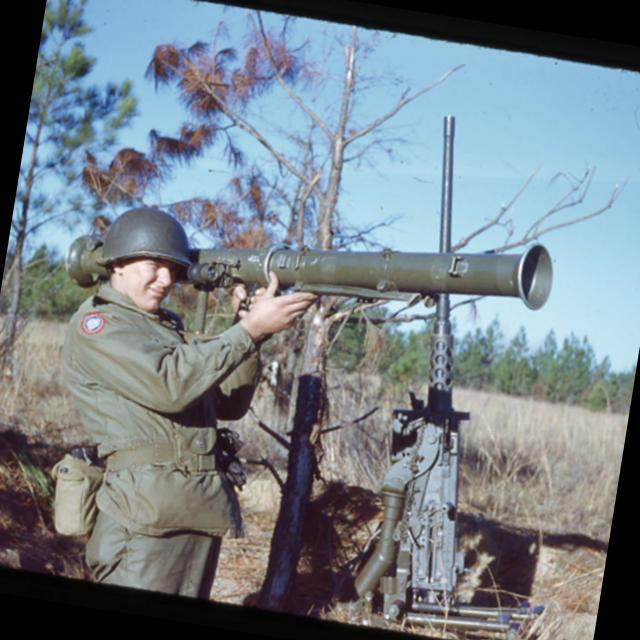rocket: (59, 154, 562, 359)
